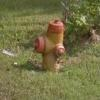Hydrant: (29, 10, 66, 75)
